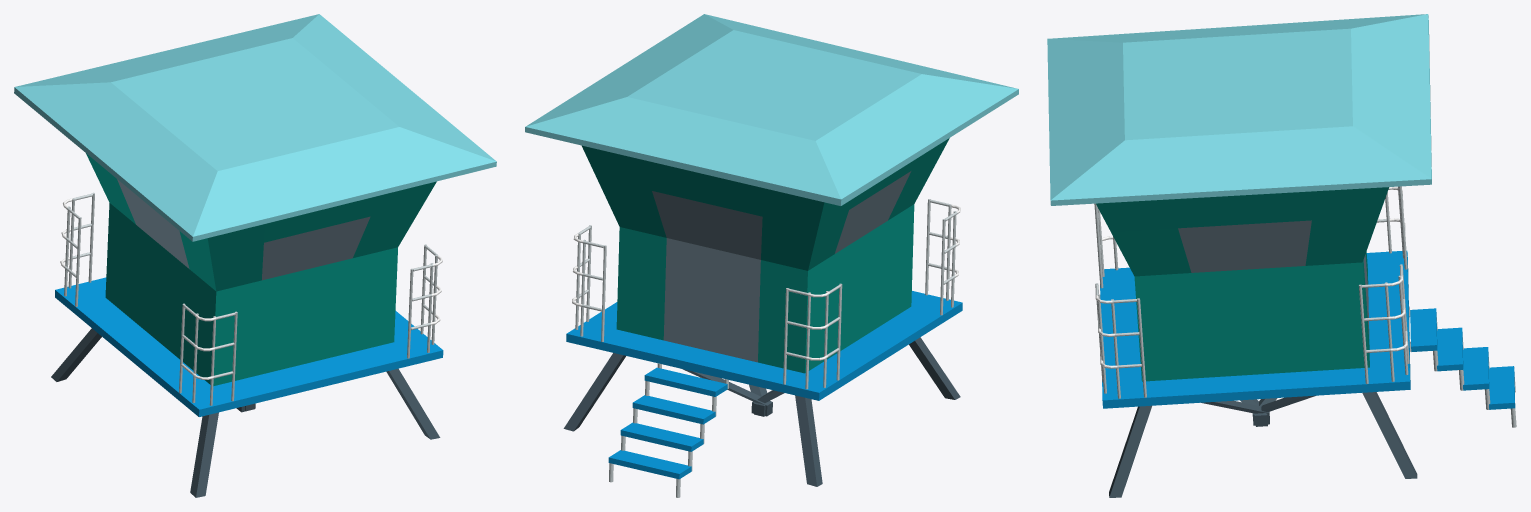
The model's file is lifeguard-tower.glb.
3 renders of one model, left to right at view 1: azimuth 30°, elevation 25°; view 2: azimuth 150°, elevation 25°; view 3: azimuth 270°, elevation 25°, orthographic. The views are drawn at different scales.
Parts seen in each view (by area): view 1: group1257859374; view 2: group1257859374; view 3: group1257859374.
Part boxes in pixels (x1,y1,x2,y2): group1257859374: (14, 14, 496, 497); group1257859374: (525, 14, 1018, 497); group1257859374: (1047, 14, 1516, 497).
Size of the model in its own units: 2.51 by 2.55 by 3.06.
